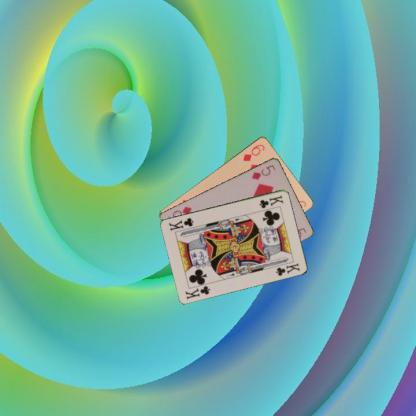5d: (249, 162, 277, 181)
6d: (240, 141, 266, 162)
Kc: (182, 283, 212, 301), (257, 192, 284, 210)
